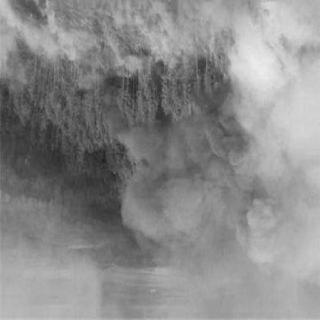Fire: (152, 37, 228, 89), (86, 37, 143, 77)
